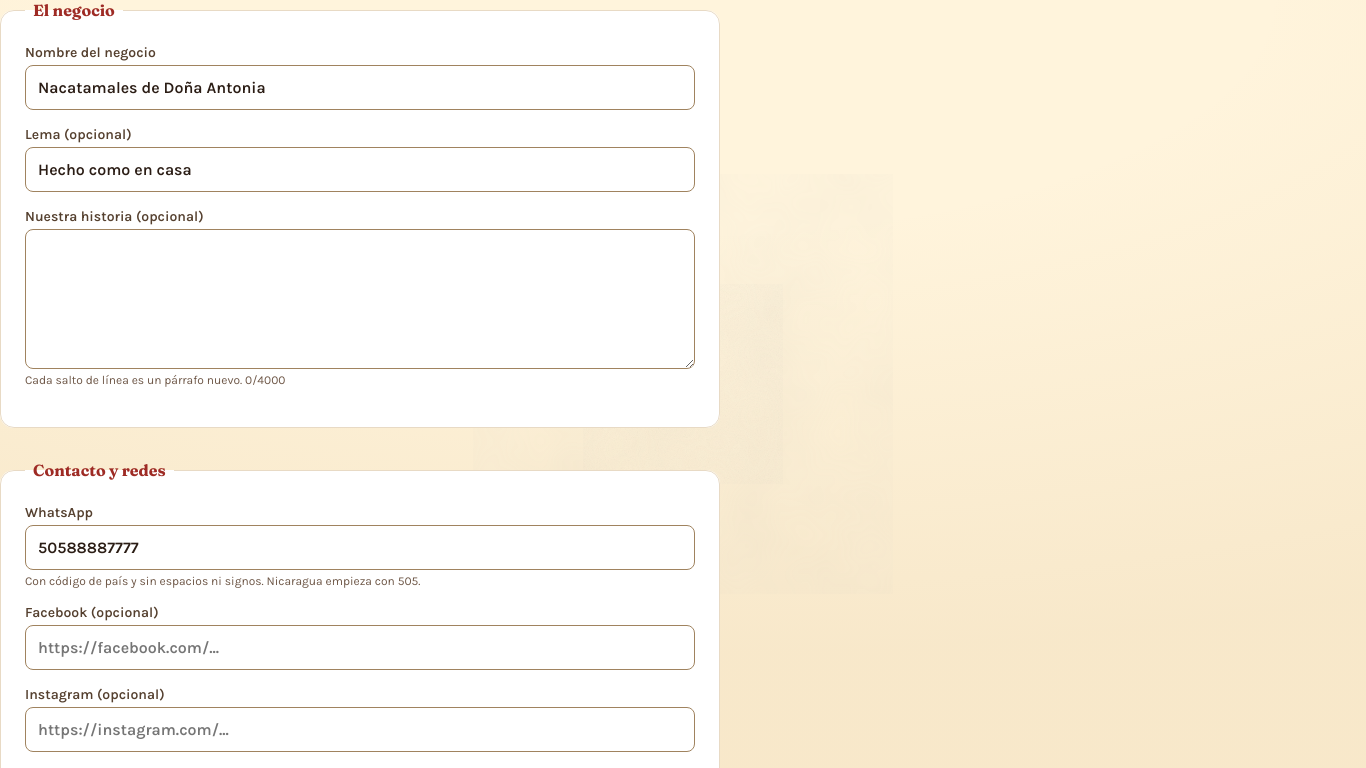
Scenario: SettingsManager › no envía nada si el WhatsApp es inválido
In the field showing "50588887777": point(360, 548) x1=25 y1=525 x2=695 y2=570, type "123"
(page scrolled)
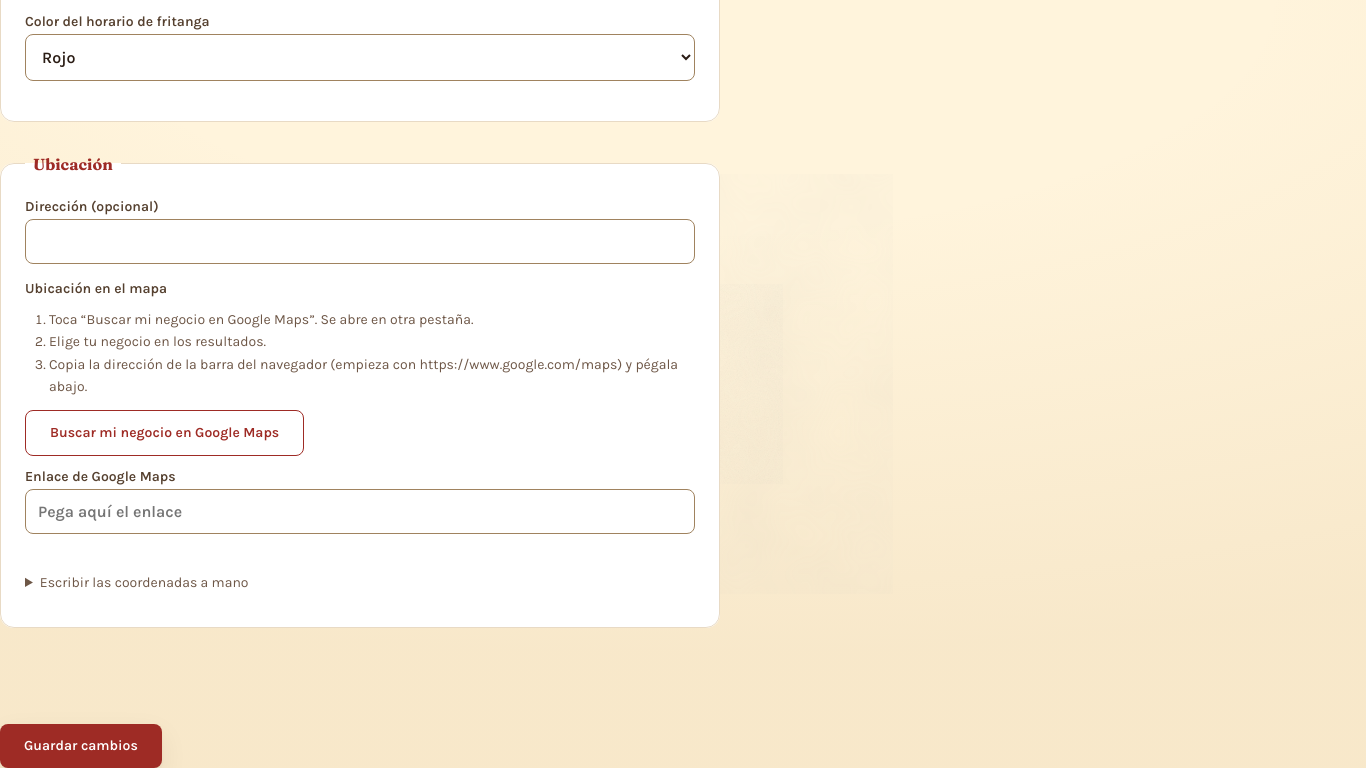
Click the button "Guardar cambios": point(81, 746) x1=0 y1=724 x2=162 y2=767
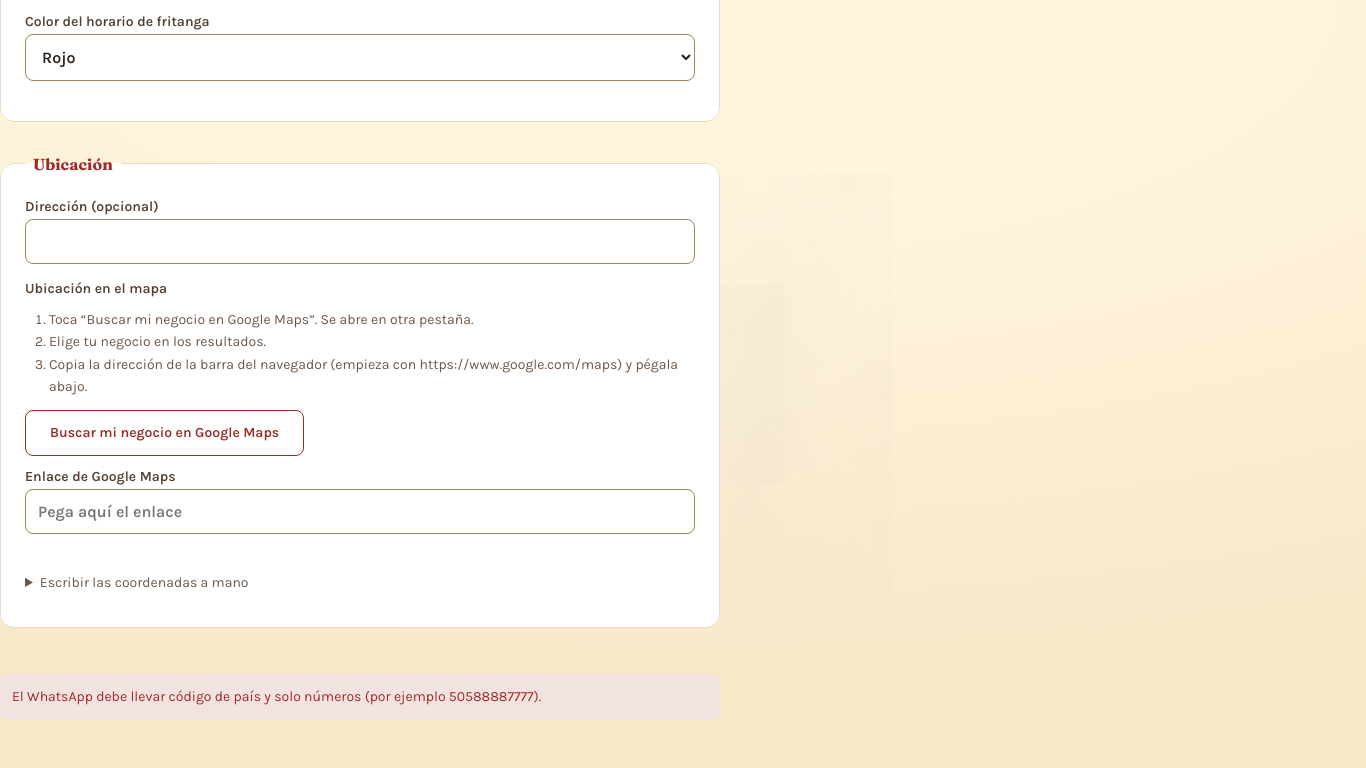
expect the text "WhatsApp debe llevar código de país" is shown: met, box x1=12 y1=688 x2=541 y2=705
